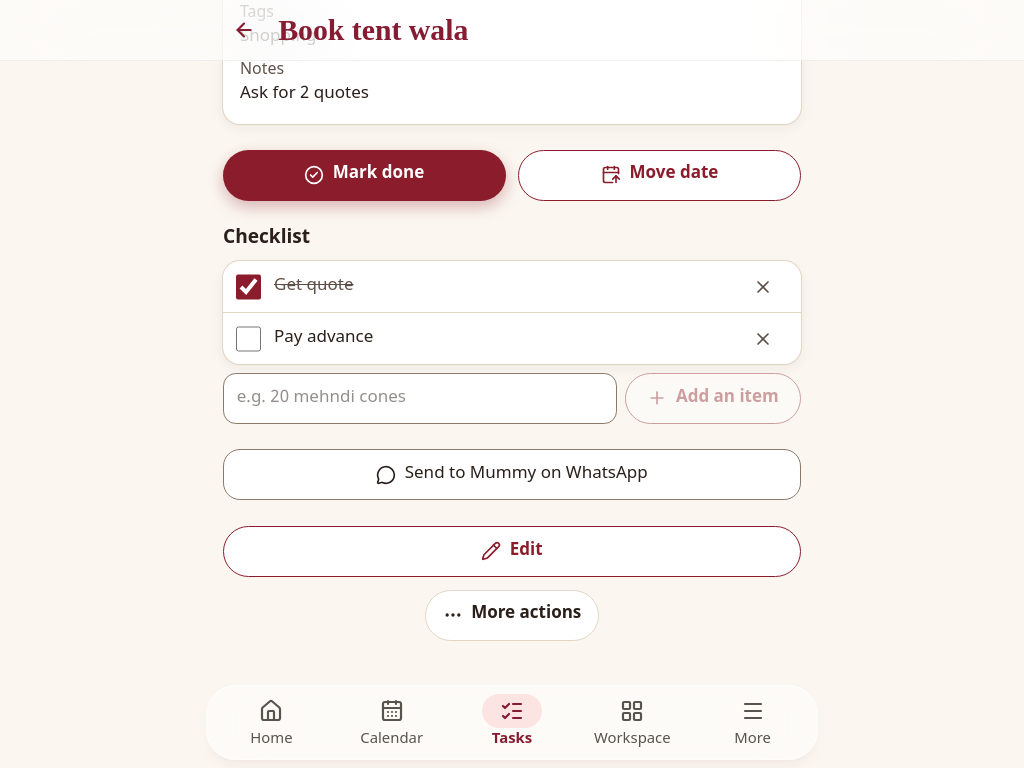
Test: Task detail › Delete goes back to the list with Undo
(page scrolled)
Click the button "More actions" at [512, 615], box [425,590,599,641]
(page scrolled)
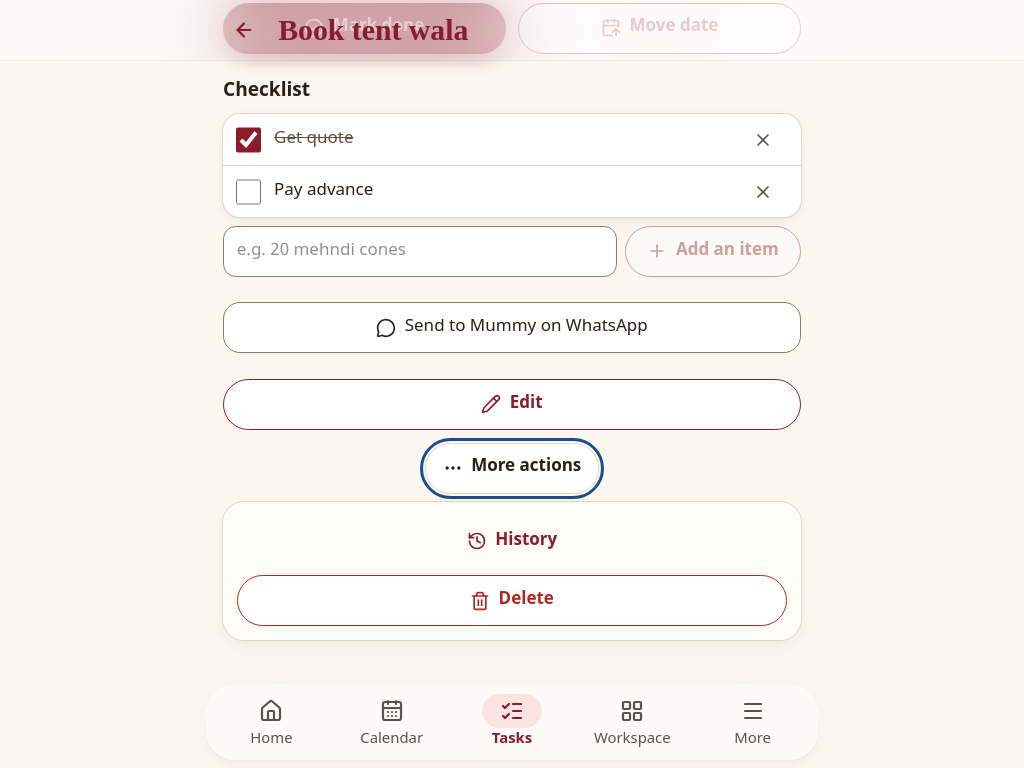
Click the button "Delete" at [512, 601], box [237,576,787,626]
(page scrolled)
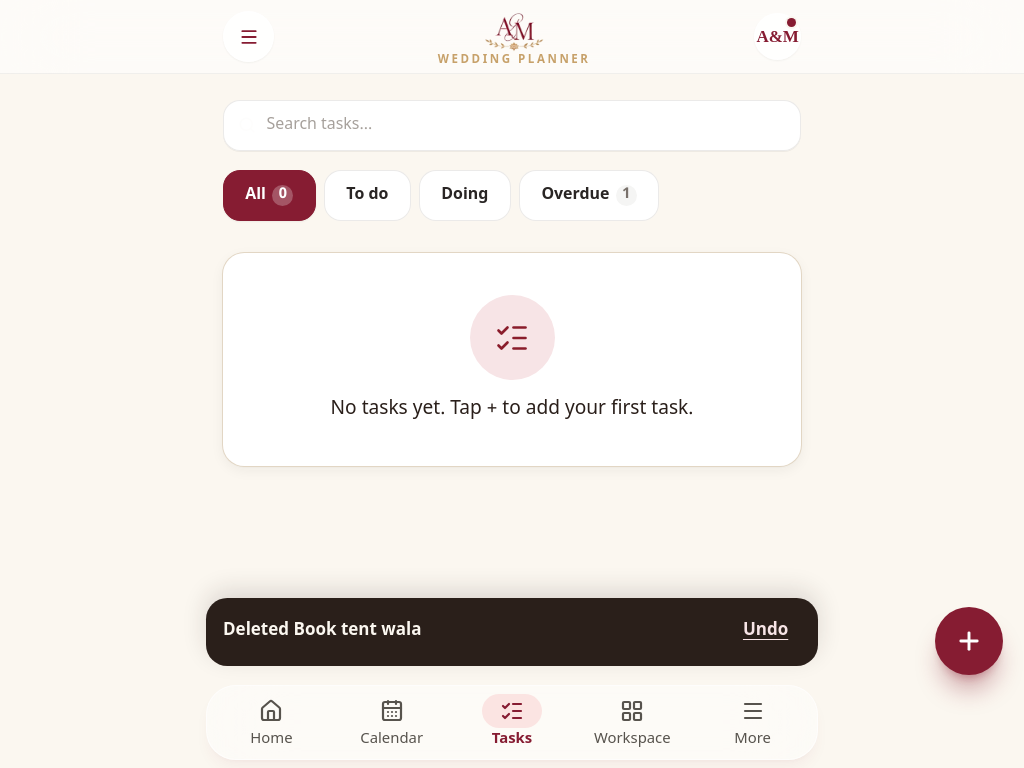
expect the text "Deleted Book tent wala" is shown: met, box [223,620,422,642]
